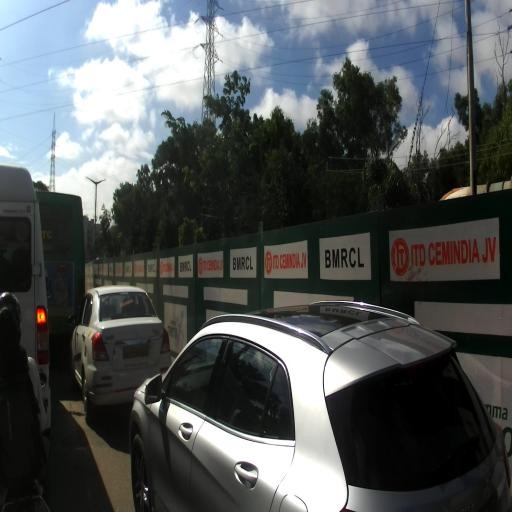street_light_0: (86, 176, 97, 186), (95, 179, 106, 186)
